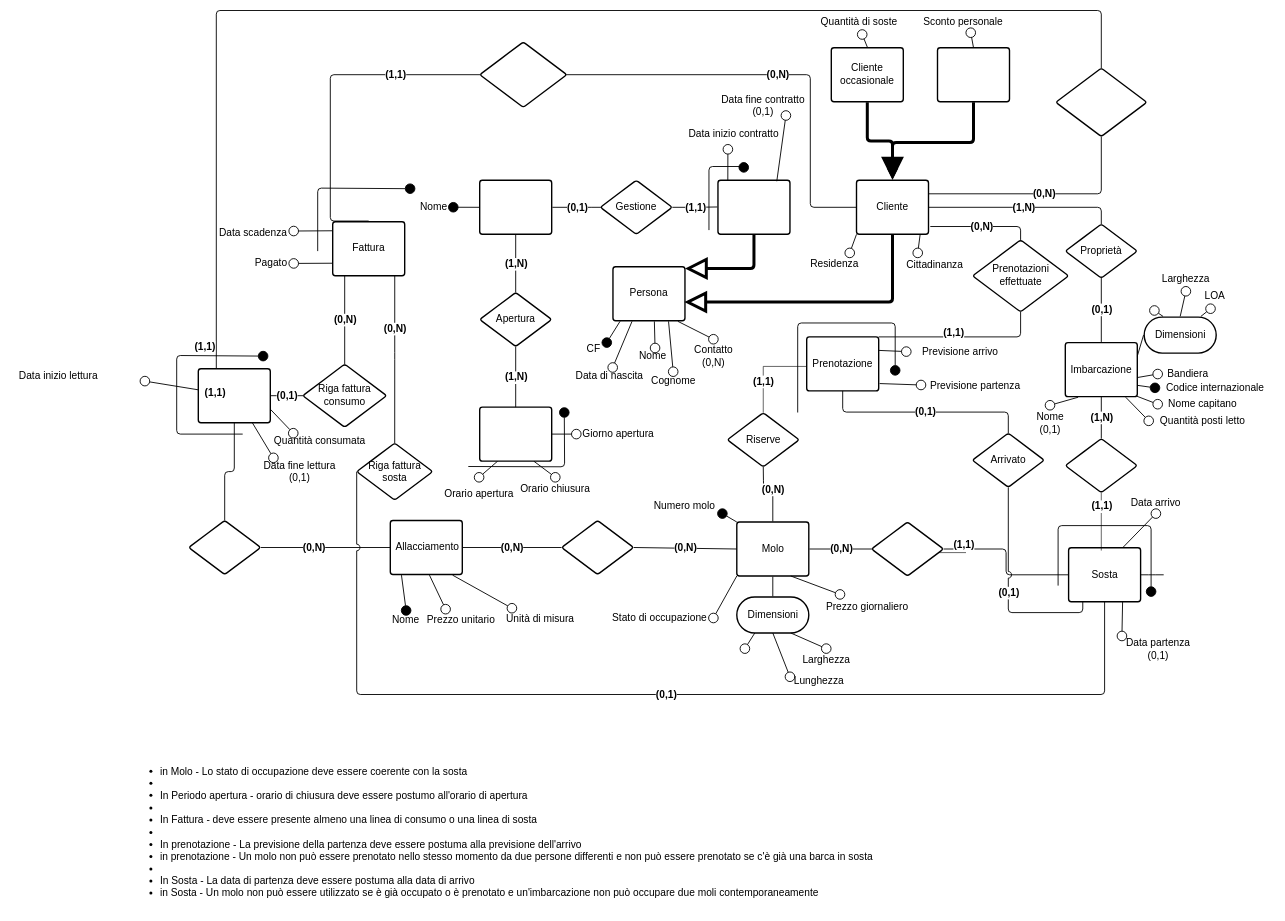
Image size: 1285x921. Some labels were removed from this diagram. The shapes that lost their labels are listed below. From the top down, each one's centre as x and y in pixels, then its label:
At point 523,74: "Destinatario fattura".
At point 973,74: "Cliente abituale".
At point 1101,102: "Consumazione".
At point 515,207: "Servizio".
At point 753,207: "Addetto".
At point 1154,298: "Pescaggio".
At point 234,395: "Consumo".
At point 515,434: "Periodo apertura".
At point 1101,465: "S_I".
At point 224,547: "Utilizzo".
At point 597,547: "Fornitura".
At point 907,548: "M_S".
At point 744,665: "Profondità minima".
